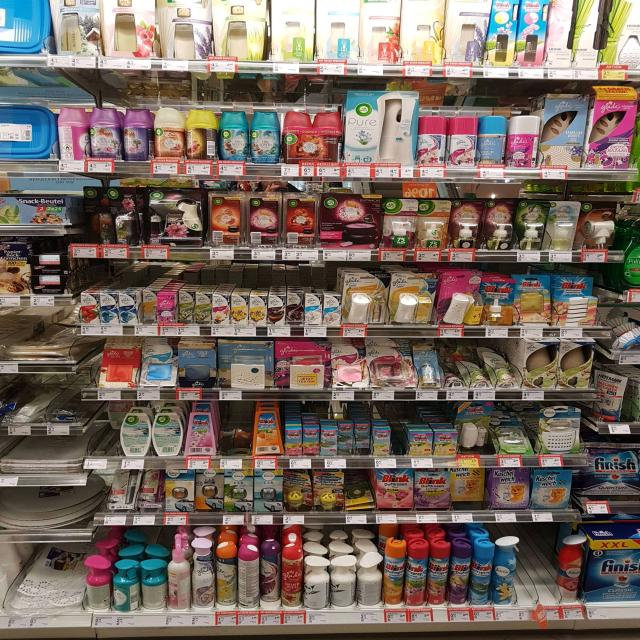empty: (516, 521, 558, 608), (212, 396, 251, 461)
